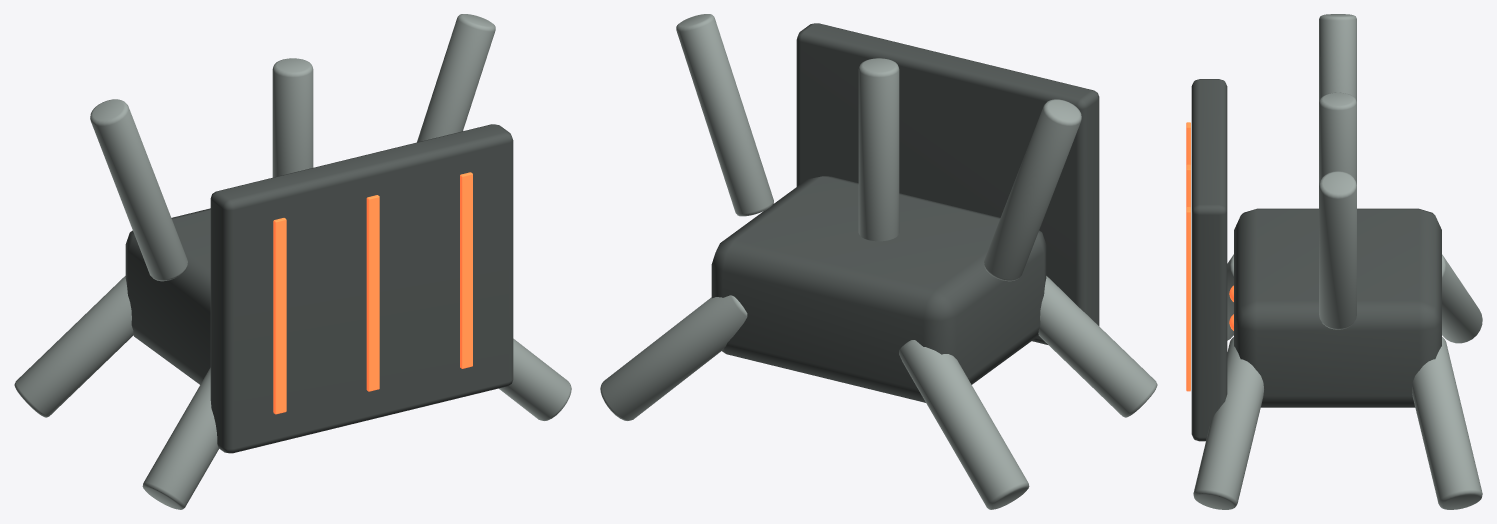
The model's file is card_boss.glb.
The picture shows the model from 3 angles, left to right: view 1: azimuth 30°, elevation 25°; view 2: azimuth 150°, elevation 25°; view 3: azimuth 270°, elevation 25°; orthographic projection. The views are drawn at different scales.
Visible parts, largest first — view 1: card_boss; view 2: card_boss; view 3: card_boss.
Boxes of the visible parts, left/top/right/bottom form: card_boss: left=14, top=14, right=571, bottom=509; card_boss: left=600, top=14, right=1157, bottom=509; card_boss: left=1186, top=14, right=1482, bottom=509.
Size of the model in its own units: 2.4 by 1.94 by 1.57.
